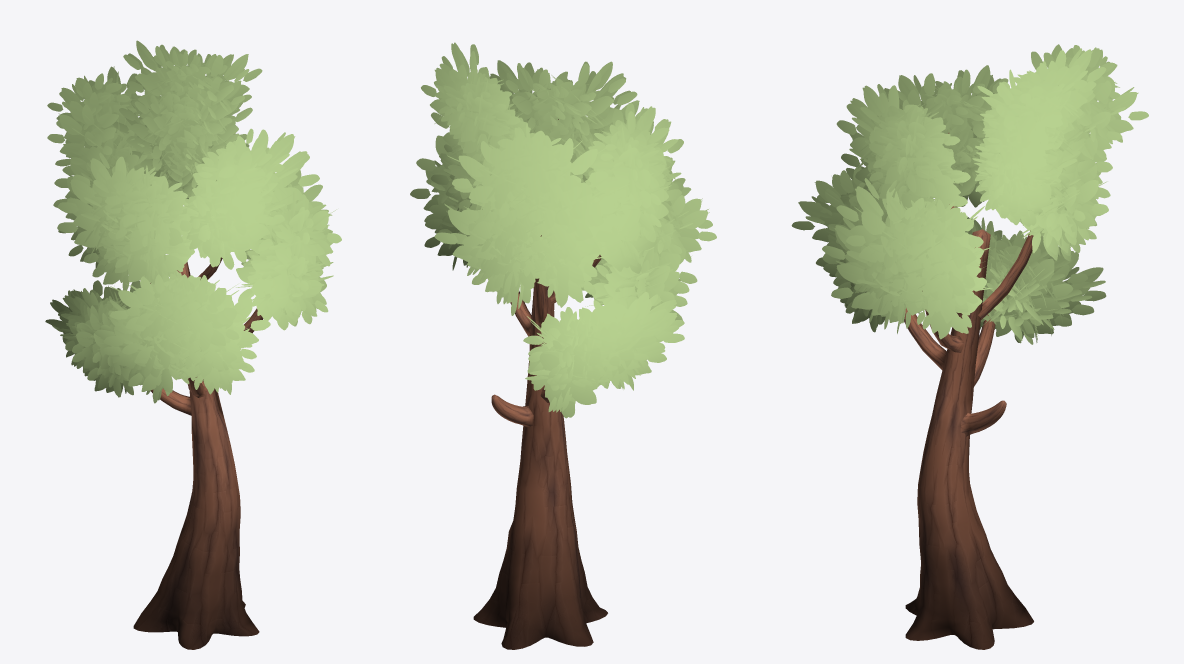
Rendered from tree_common_5.glb.
3 renders of one model, left to right at view 1: azimuth 30°, elevation 25°; view 2: azimuth 150°, elevation 25°; view 3: azimuth 270°, elevation 25°, orthographic. The views are drawn at different scales.
Visible parts, largest first — view 1: CommonTree_5; view 2: CommonTree_5; view 3: CommonTree_5.
Boxes of the visible parts, left/top/right/bottom form: CommonTree_5: left=45, top=40, right=341, bottom=649; CommonTree_5: left=410, top=42, right=716, bottom=649; CommonTree_5: left=791, top=44, right=1148, bottom=649.
Size of the model in its own units: 1.83 by 3.5 by 2.11.
2 materials, 2 textured.
